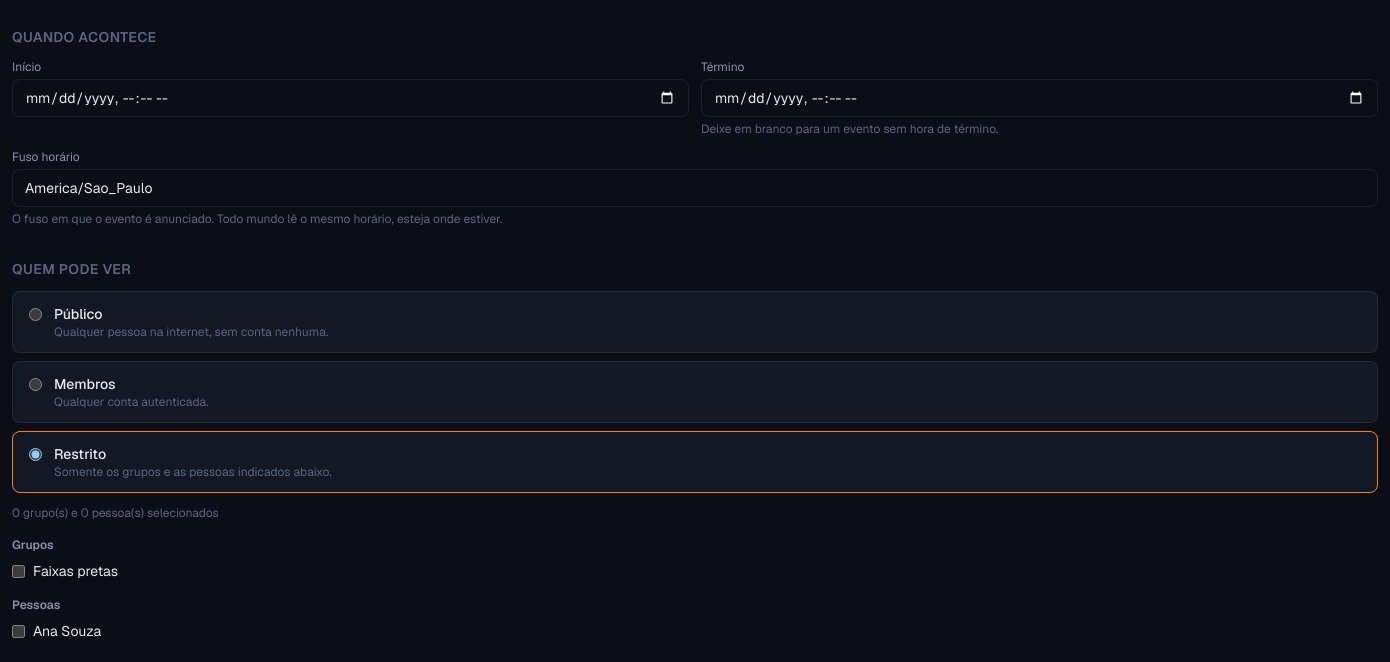
Scenario: EventForm — the audience selector › reveals the group and user pickers only for restricted, and warns on public
The width and height of the screenshot is (1390, 662).
(page scrolled)
Check: the text "Faixas pretas" is shown, box [12, 562, 118, 580]
Check: the text "Ana Souza" is shown, box [12, 622, 101, 640]
Click the radio button labelled "Membros Qualquer conta autenticada.": (36, 384) [29, 378, 42, 391]
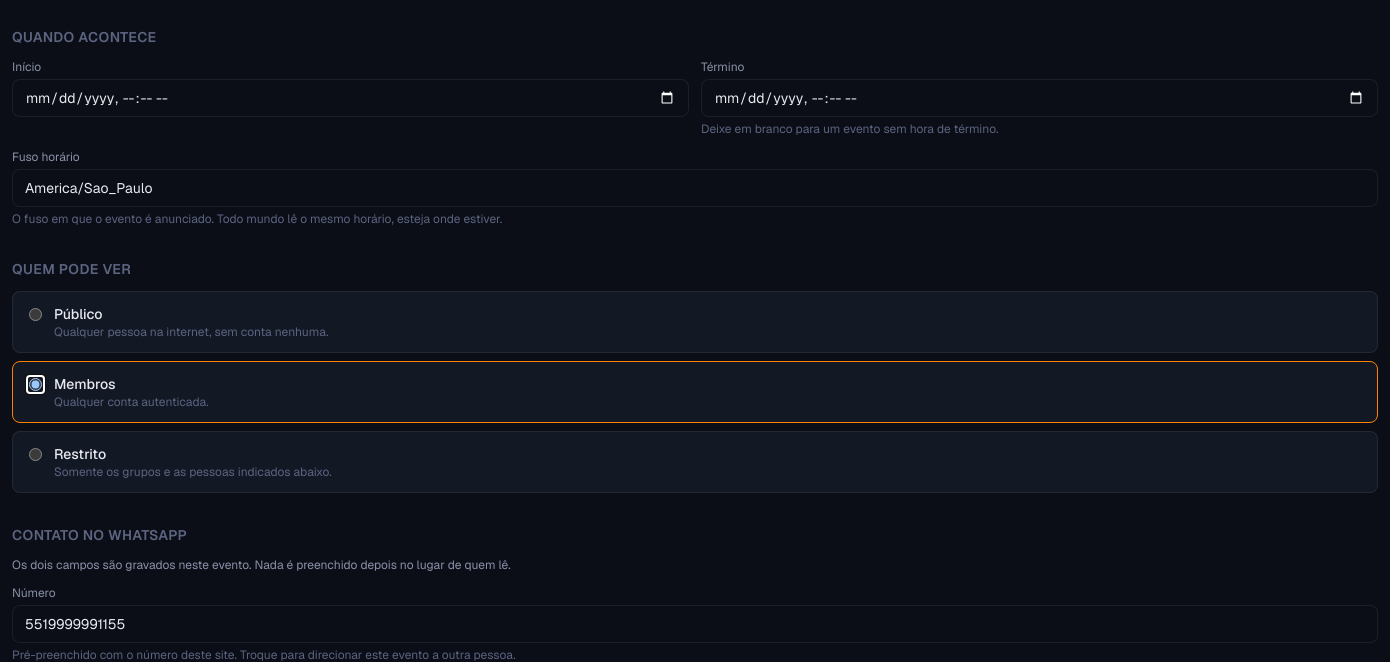
Check: the text "Faixas pretas" is gone
Check: the text "Ana Souza" is gone
Click the radio button labelled "Público Qualquer pessoa na internet, sem conta nenhuma.": (36, 314) [29, 308, 42, 321]
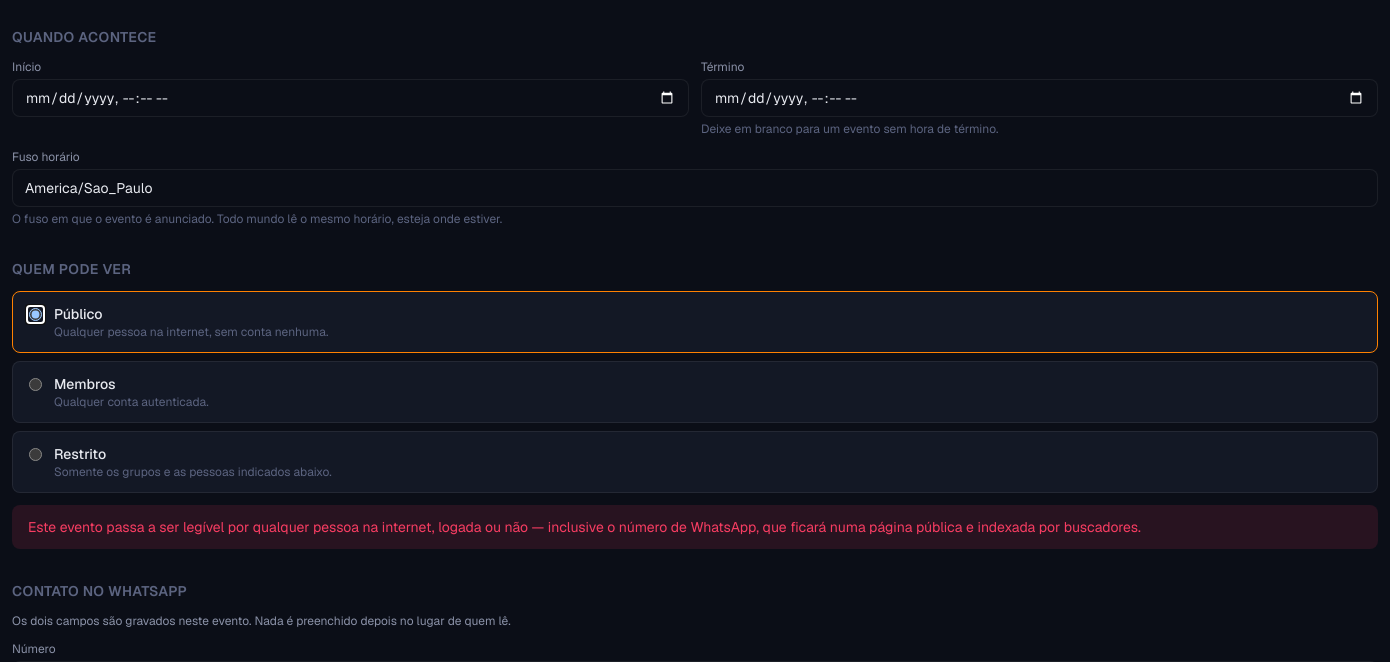
Check: the text "Faixas pretas" is not shown
Check: the text "Este evento passa a ser legível por qualquer pessoa na internet, logada ou não — inclusive o número de WhatsApp, que fic" is shown, box [28, 518, 1141, 536]
